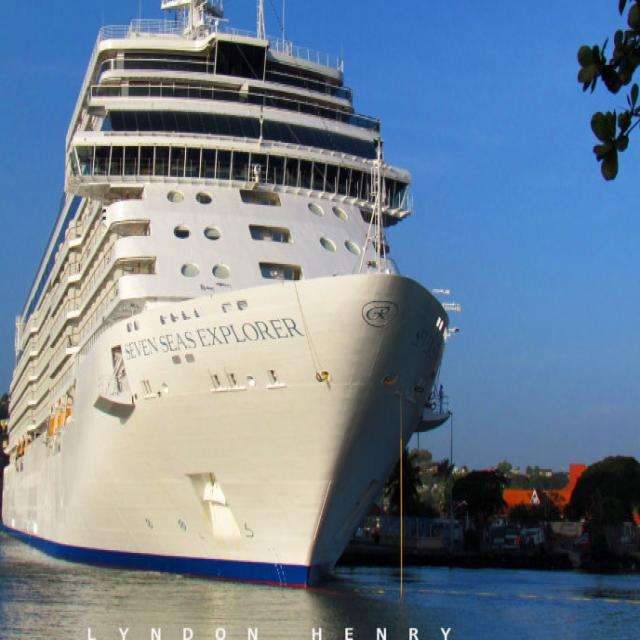cruises: (1, 1, 458, 601)
